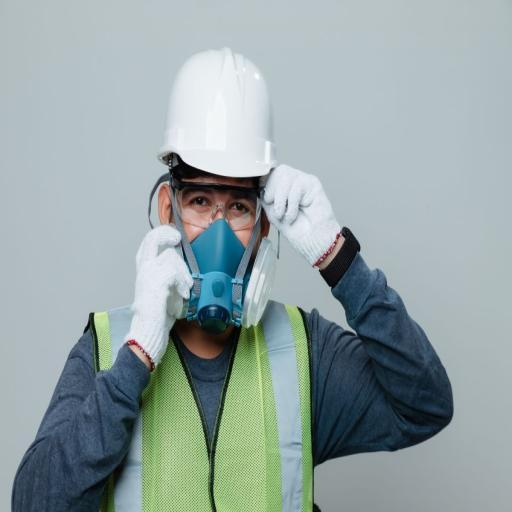mask: (172, 209, 254, 354)
